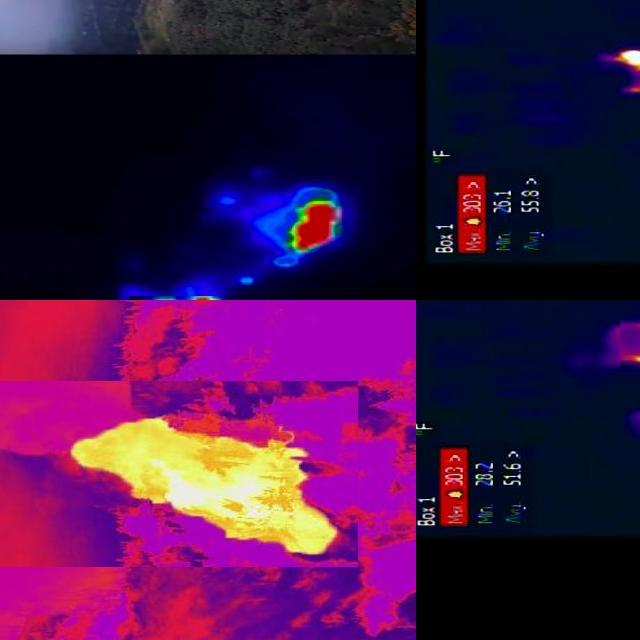fire: (72, 416, 342, 560), (281, 198, 343, 252), (613, 48, 640, 94), (621, 320, 640, 368)
